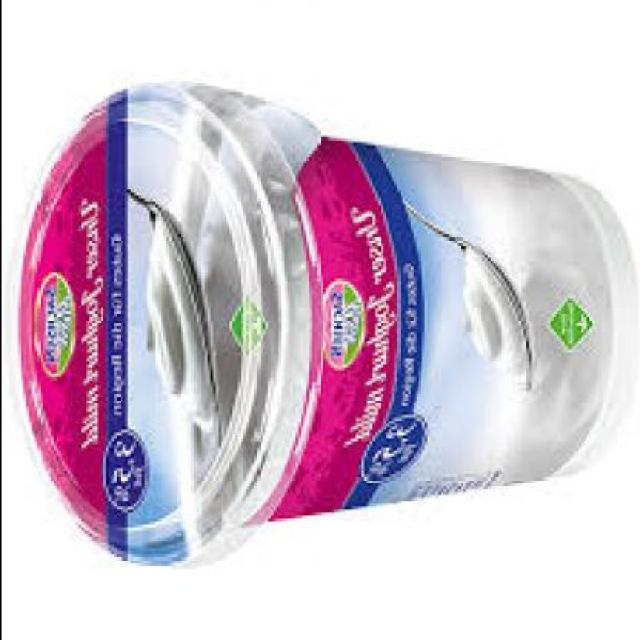PLASTIC: (1, 80, 637, 565)
